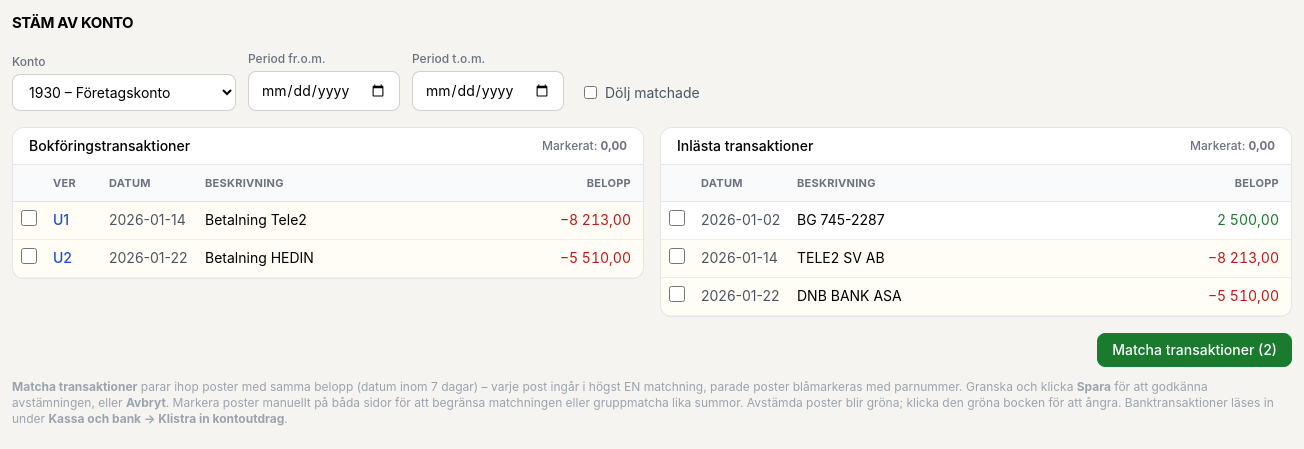
it: Stäm av konto – matcha (granska) och spara (acceptera) › Matcha bygger UNIK 1:1-matchning som granskningsläge – INGET skrivs till databasen
The width and height of the screenshot is (1304, 449).
Expected: the text "Betalning Tele2" is shown, [197,201,531,239]
Step 1. Click the button "Matcha transaktioner (2)" → (1195, 350), box [1097,332,1292,366]
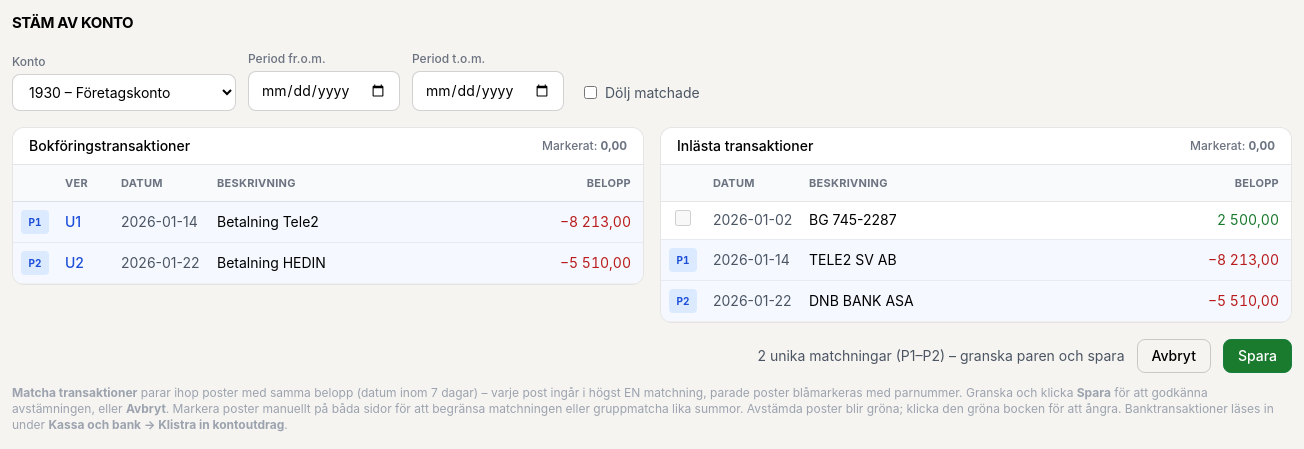
Expected: the text "2 unika matchningar (P1–P2) – granska paren och spara" is shown, [757,346,1124,366]
Expected: the number of elements titled "Matchning 1" is 2, [21,210,49,234]; [669,248,697,272]
Expected: the number of elements titled "Matchning 2" is 2, [21,250,49,274]; [669,288,697,312]
